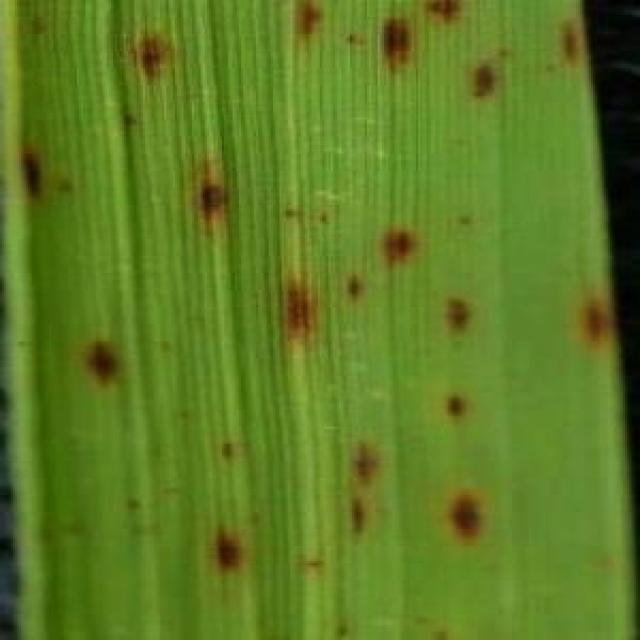Rice: (262, 255, 330, 347), (331, 436, 383, 535), (7, 137, 67, 210), (182, 148, 234, 226), (378, 205, 433, 274), (368, 13, 424, 80), (130, 26, 190, 83), (70, 334, 128, 388), (450, 485, 500, 545), (571, 292, 614, 356), (202, 519, 252, 573), (280, 0, 344, 41), (398, 0, 459, 43), (547, 17, 578, 79), (462, 48, 498, 100), (430, 388, 470, 428), (340, 254, 365, 312), (443, 296, 473, 340)
